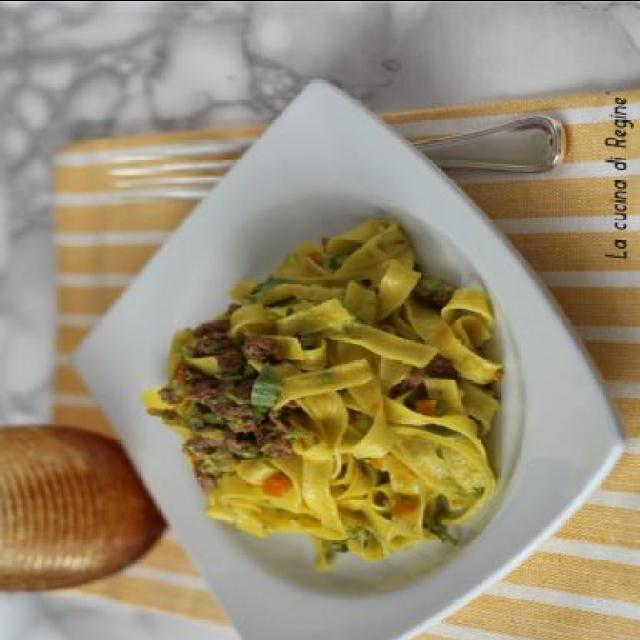Pasta al ragu: (97, 146, 541, 569)
